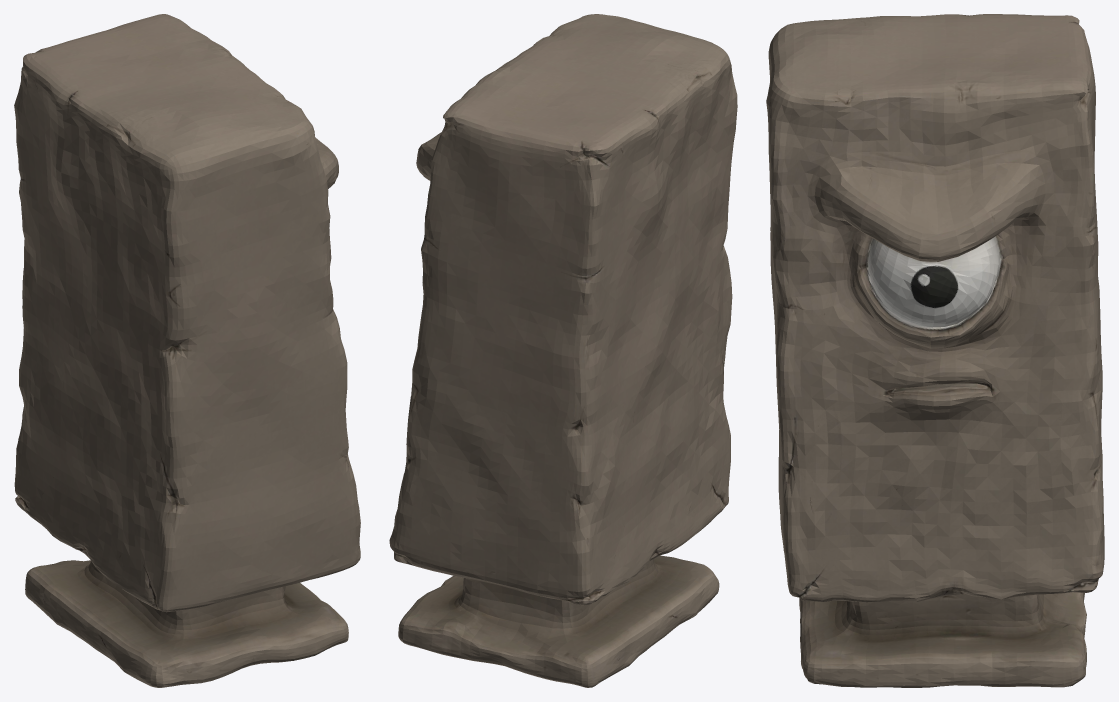
File: don.glb
3 views of the same model, side by side, from view 1: azimuth 30°, elevation 25°; view 2: azimuth 150°, elevation 25°; view 3: azimuth 270°, elevation 25° (orthographic). The views are drawn at different scales.
Visible parts, largest first — view 1: tripo_node_53db1860-a4f6-45dc-bdd8-4a30a67b33e1; view 2: tripo_node_53db1860-a4f6-45dc-bdd8-4a30a67b33e1; view 3: tripo_node_53db1860-a4f6-45dc-bdd8-4a30a67b33e1.
Part boxes in pixels (bbox=[...]): tripo_node_53db1860-a4f6-45dc-bdd8-4a30a67b33e1: bbox=[14, 14, 360, 687]; tripo_node_53db1860-a4f6-45dc-bdd8-4a30a67b33e1: bbox=[389, 14, 737, 687]; tripo_node_53db1860-a4f6-45dc-bdd8-4a30a67b33e1: bbox=[766, 14, 1104, 687].
Bounding box in the file's own units: 0.4733 × 0.9999 × 0.5286.
Materials: 1 (1 with a texture image).
